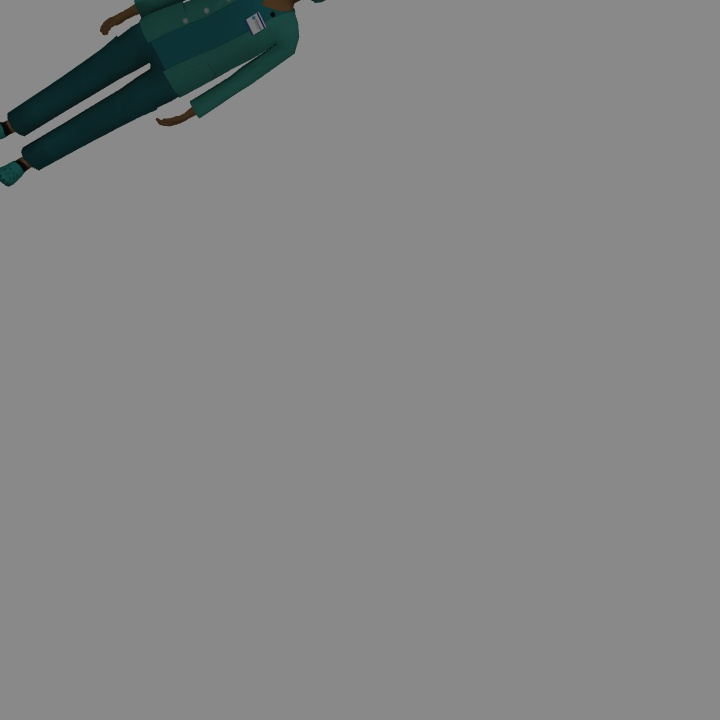victim: (1, 1, 326, 184)
